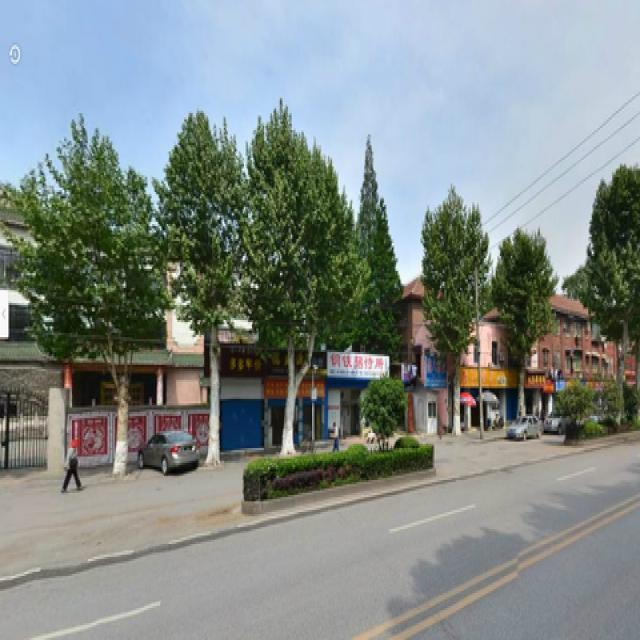meta: (29, 134, 152, 472), (258, 102, 358, 456), (154, 98, 250, 461)
